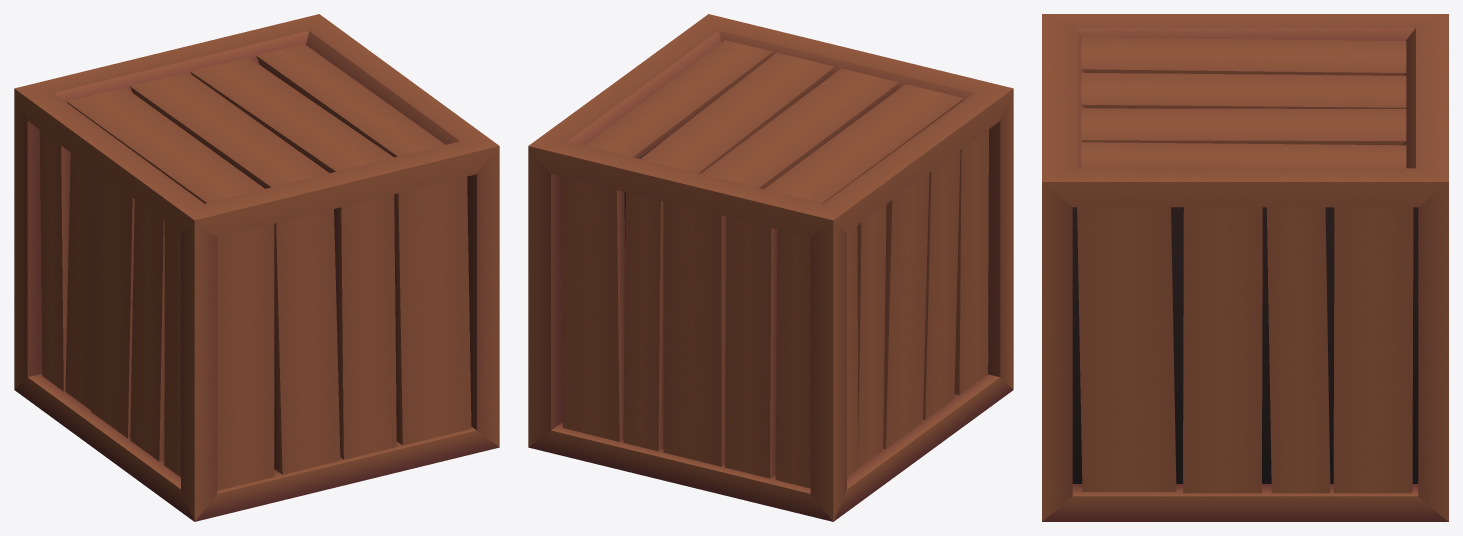
File: Crate02.fbx
The picture shows the model from 3 angles, left to right: view 1: azimuth 30°, elevation 25°; view 2: azimuth 150°, elevation 25°; view 3: azimuth 270°, elevation 25°; orthographic projection. The views are drawn at different scales.
Parts seen in each view (by area): view 1: Crate02; view 2: Crate02; view 3: Crate02.
Part boxes in pixels (x1,y1,x2,y2): Crate02: [14, 14, 499, 521]; Crate02: [528, 14, 1013, 521]; Crate02: [1042, 14, 1448, 521].
Bounding box in the file's own units: 101 × 95.65 × 104.
Materials: 1 (1 with a texture image).
